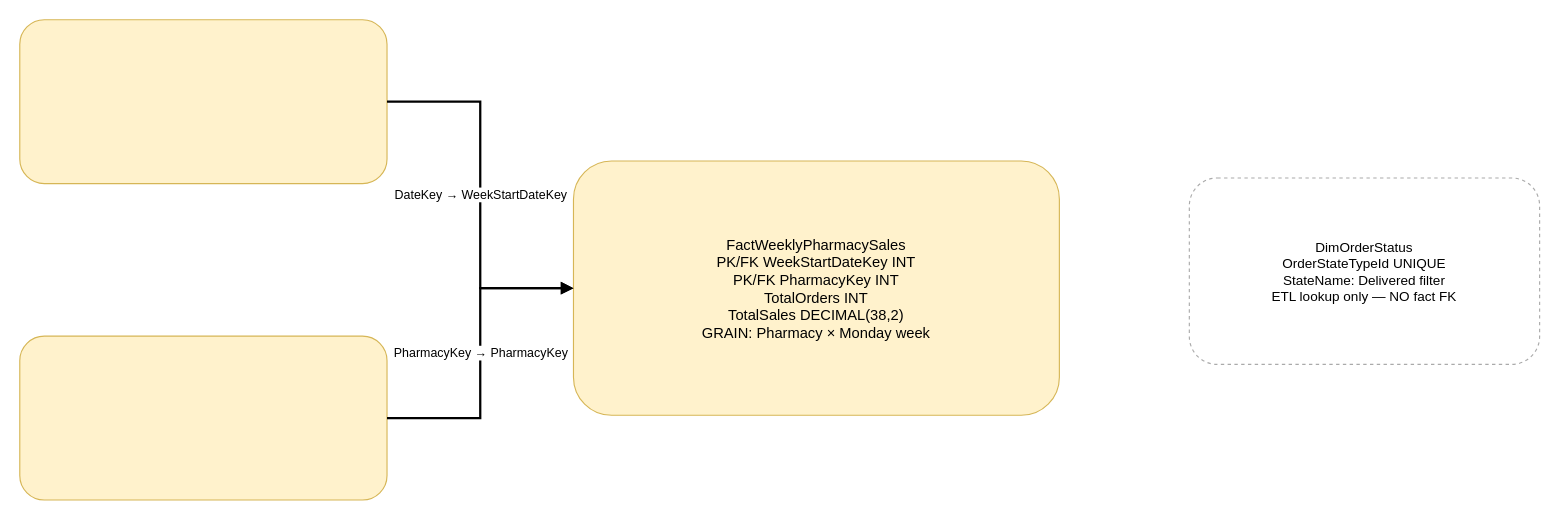
Some shapes in this 1559 by 520 pixel diagram are drawn without their labels. Each missing label, with the centre of its shape:
"DimDate PK DateKey INT FullDate DATE UNIQUE WeekOfYear • Month • Year" belongs at (203,101).
"DimPharmacy PK PharmacyKey INT PharmacyBisKey UNIQUE CreatedOn • TestFlag" belongs at (203,417).
